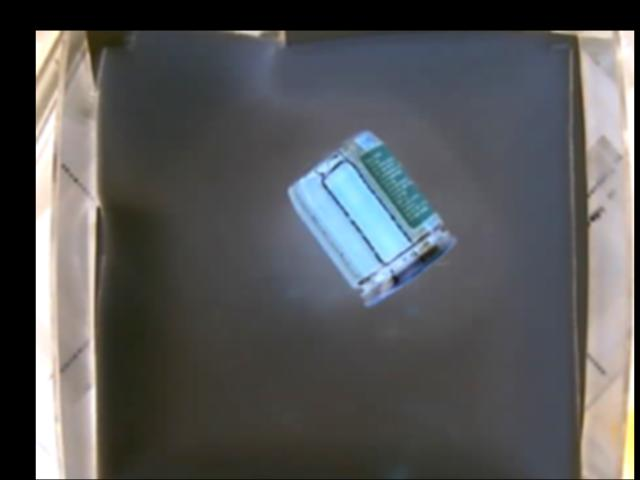Bottle: (289, 131, 458, 308)
